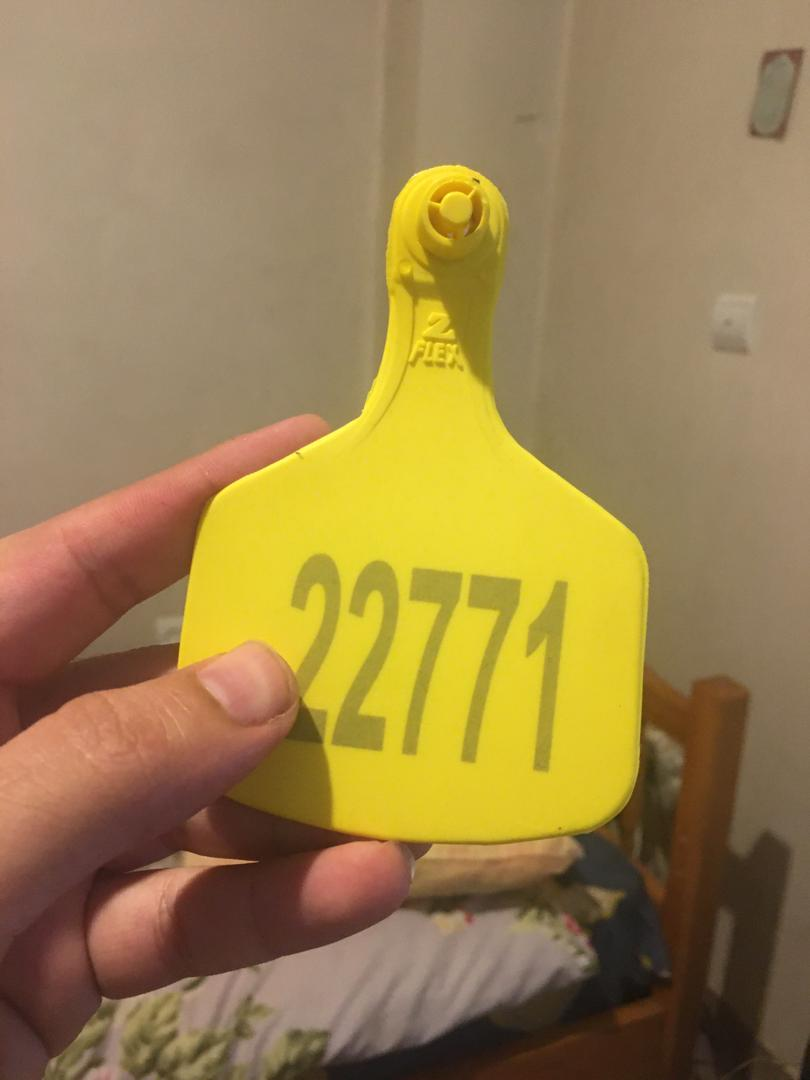digit: (285, 548, 571, 778)
